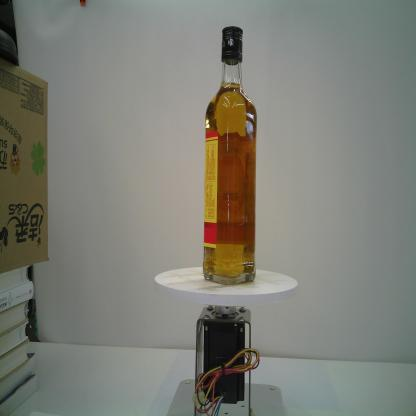Seasoner: (200, 24, 260, 286)
